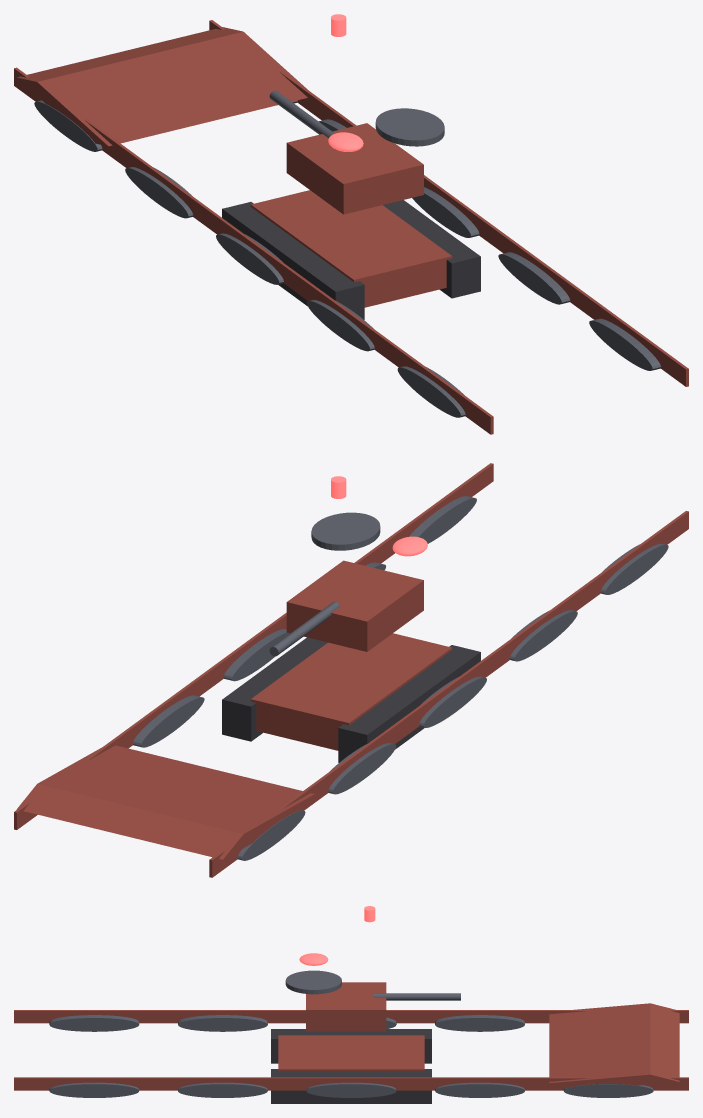
The model's file is SU_TechCenter_LOD0.glb.
3 renders of one model, top to bottom at view 1: azimuth 30°, elevation 25°; view 2: azimuth 150°, elevation 25°; view 3: azimuth 270°, elevation 25°, orthographic. The views are drawn at different scales.
Visible parts, largest first — view 1: Cube.001, Cube, Cube.006, Cube.003, Cube.005, Cube.002, Cube.004, Cylinder.010, Cylinder.006, Cylinder.005, Cylinder.007, Cylinder.003 (+5 smaller); view 2: Cube.001, Cube, Cube.006, Cube.003, Cube.005, Cube.002, Cube.004, Cylinder.010, Cylinder.008, Cylinder, Cylinder.003, Cylinder.001 (+5 smaller); view 3: Cube.001, Cube.005, Cube, Cube.003, Cube.006, Cube.004, Cube.002, Cylinder, Cylinder.001, Cylinder.003, Cylinder.005, Cylinder.007 (+5 smaller).
Boxes of the visible parts, left/top/right/bottom form: Cube.001: left=17, top=27, right=307, bottom=146; Cube: left=250, top=190, right=452, bottom=307; Cube.006: left=286, top=123, right=423, bottom=214; Cube.003: left=14, top=67, right=493, bottom=434; Cube.005: left=209, top=20, right=688, bottom=386; Cube.002: left=222, top=202, right=364, bottom=319; Cube.004: left=383, top=200, right=480, bottom=298; Cylinder.010: left=375, top=108, right=444, bottom=146; Cylinder.006: left=498, top=252, right=570, bottom=304; Cylinder.005: left=589, top=318, right=660, bottom=370; Cylinder.007: left=412, top=187, right=479, bottom=237; Cylinder.003: left=125, top=167, right=193, bottom=218; Cube.001: left=16, top=745, right=314, bottom=859; Cube: left=250, top=633, right=452, bottom=750; Cube.006: left=286, top=560, right=423, bottom=651; Cube.003: left=209, top=511, right=688, bottom=877; Cube.005: left=14, top=463, right=493, bottom=829; Cube.002: left=338, top=645, right=480, bottom=762; Cube.004: left=222, top=637, right=327, bottom=741; Cylinder.010: left=311, top=512, right=380, bottom=550; Cylinder.008: left=132, top=695, right=204, bottom=747; Cylinder: left=600, top=543, right=668, bottom=594; Cylinder.003: left=328, top=743, right=396, bottom=794; Cylinder.001: left=509, top=610, right=577, bottom=661; Cube.001: left=549, top=1003, right=679, bottom=1087; Cube.005: left=14, top=1077, right=688, bottom=1090; Cube: left=278, top=1035, right=424, bottom=1070; Cube.003: left=14, top=1010, right=688, bottom=1023; Cube.006: left=306, top=982, right=386, bottom=1031; Cube.004: left=271, top=1069, right=431, bottom=1103; Cube.002: left=271, top=1029, right=431, bottom=1063; Cylinder: left=49, top=1015, right=139, bottom=1031; Cylinder.001: left=178, top=1015, right=267, bottom=1031; Cylinder.003: left=435, top=1015, right=524, bottom=1031; Cylinder.005: left=49, top=1082, right=139, bottom=1097; Cylinder.007: left=306, top=1082, right=396, bottom=1097.
Size of what is drawn, in the model's own units: 4.65 by 5.15 by 18.48.
